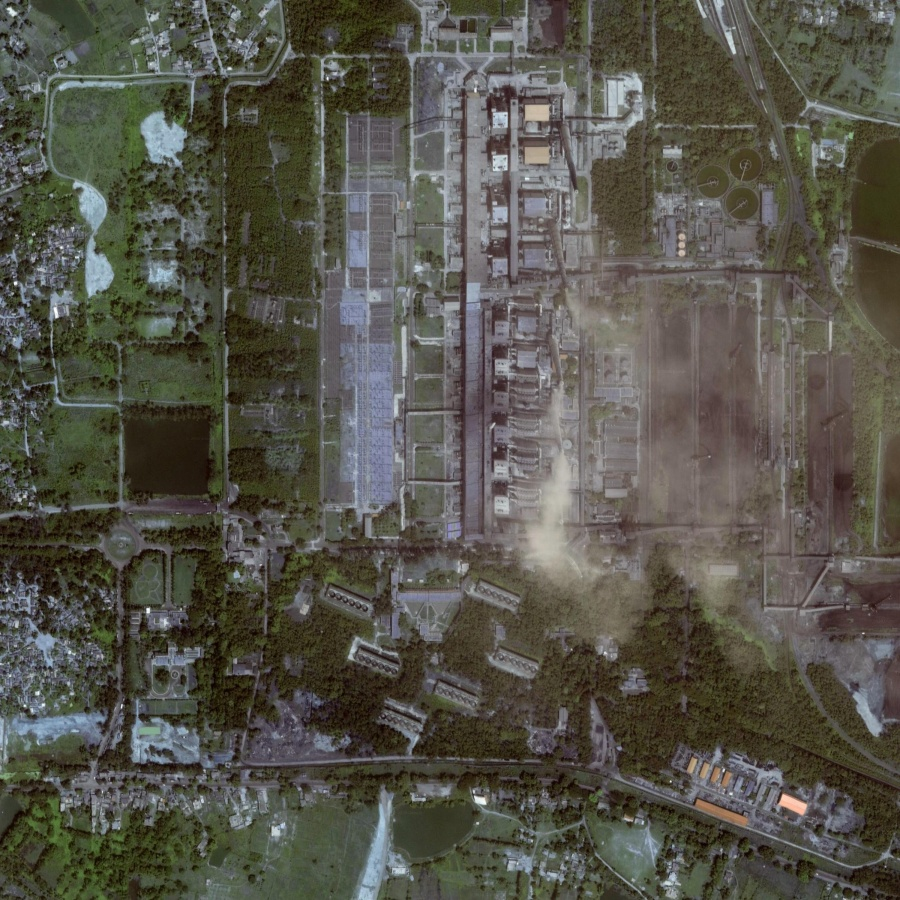PowerPlant: (535, 273, 866, 594)
